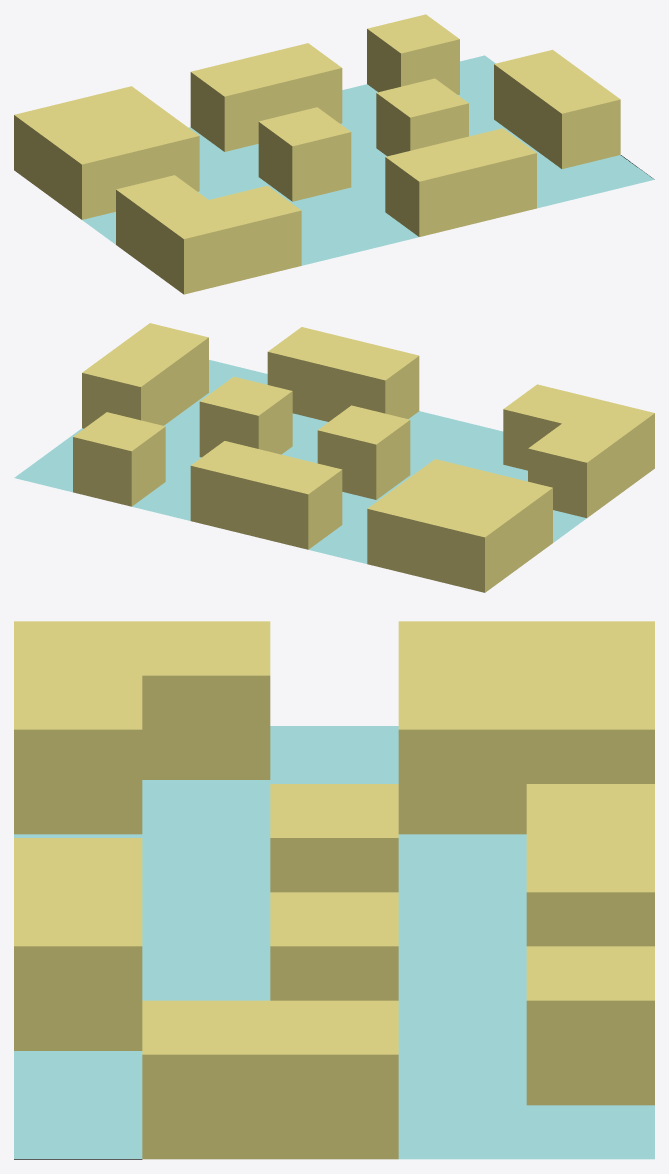
3 views of the same model, one above another, from view 1: azimuth 30°, elevation 25°; view 2: azimuth 150°, elevation 25°; view 3: azimuth 270°, elevation 25° (orthographic). The views are drawn at different scales.
Visible parts, largest first — view 1: Model; view 2: Model; view 3: Model.
Part boxes in pixels (bbox=[...]): Model: bbox=[14, 14, 654, 294]; Model: bbox=[14, 323, 654, 592]; Model: bbox=[14, 621, 654, 1159].
Size of the model in its own units: 4002 by 450 by 2500.
